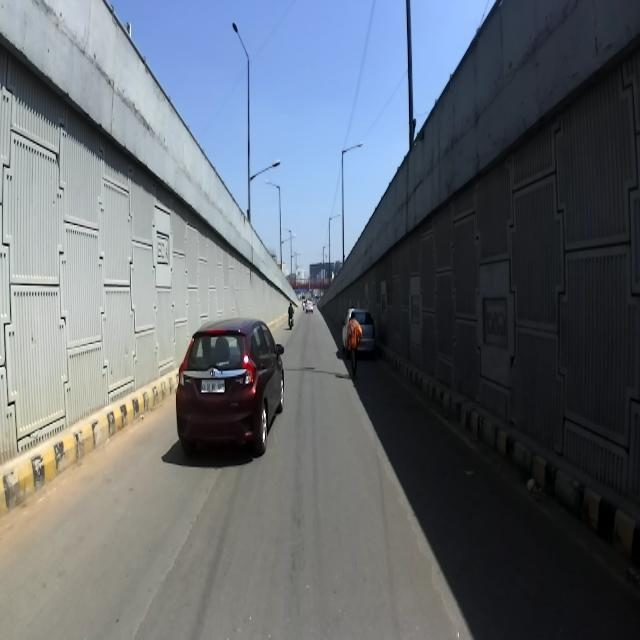car ahead at: (178, 310, 291, 467)
